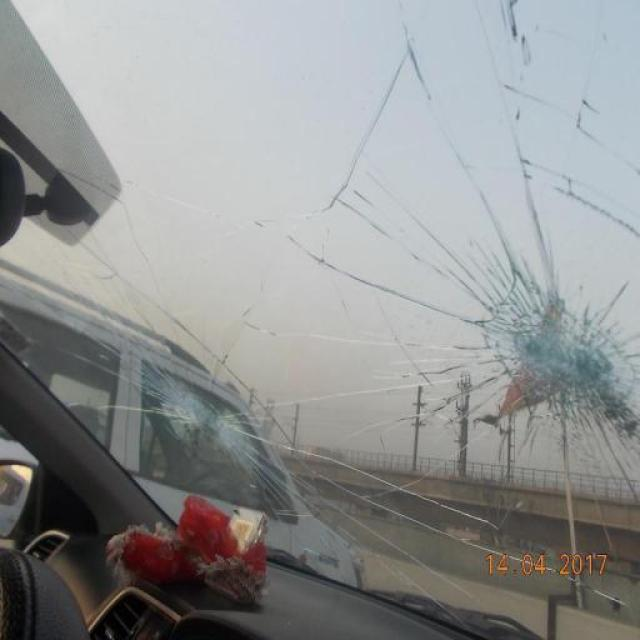crack: (453, 253, 640, 444), (152, 369, 233, 444)
